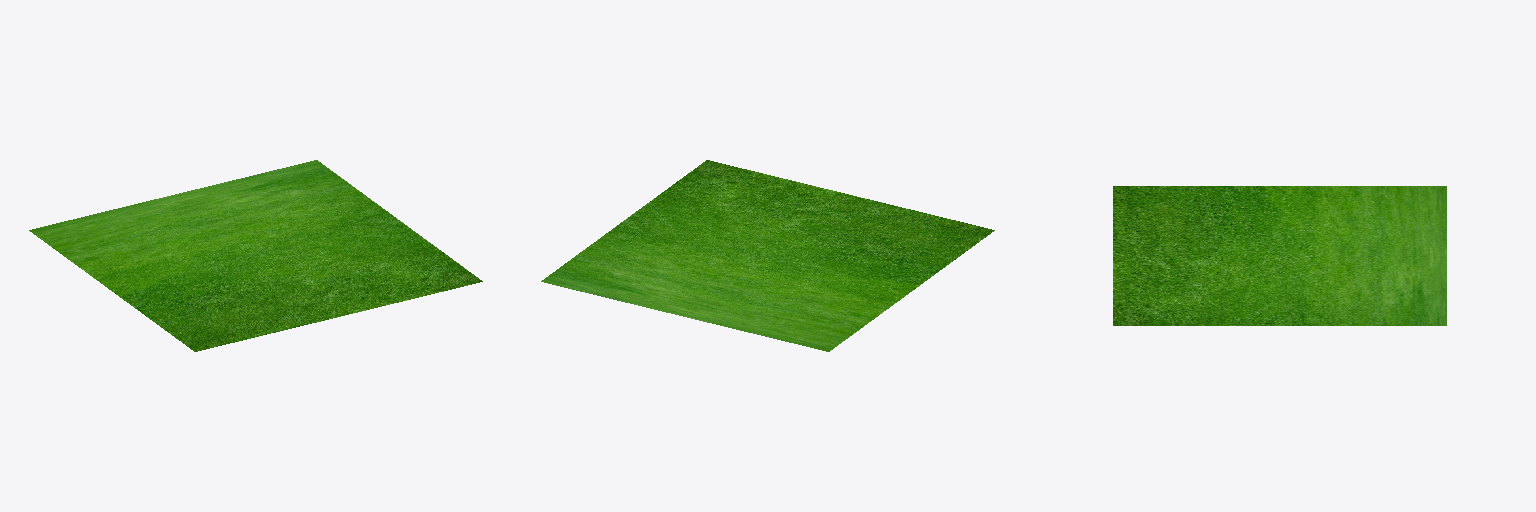
The picture shows the model from 3 angles: view 1: azimuth 30°, elevation 25°; view 2: azimuth 150°, elevation 25°; view 3: azimuth 270°, elevation 25°; orthographic projection.
Size of the model in its own units: 5000 by 0 by 5000.
Materials: 1 (1 with a texture image).